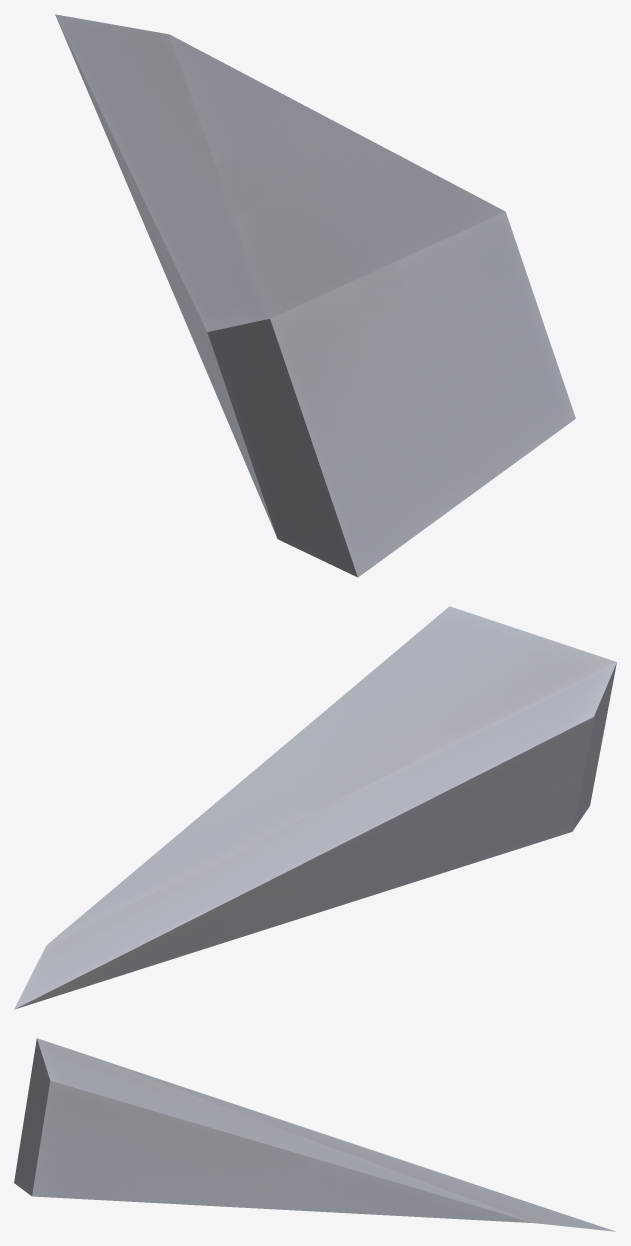
File: PA10LeftPaddle2.obj
3 views of the same model, one above another, from view 1: azimuth 30°, elevation 25°; view 2: azimuth 150°, elevation 25°; view 3: azimuth 270°, elevation 25° (orthographic). The views are drawn at different scales.
Visible parts, largest first — view 1: Cube.001_Cube.002; view 2: Cube.001_Cube.002; view 3: Cube.001_Cube.002.
Part boxes in pixels (x1,y1,x2,y2): Cube.001_Cube.002: (55, 14, 575, 577); Cube.001_Cube.002: (14, 606, 616, 1009); Cube.001_Cube.002: (14, 1038, 615, 1231).
Size of the model in its own units: 3.24 by 2.23 by 8.26.
1 material, 1 textured.
